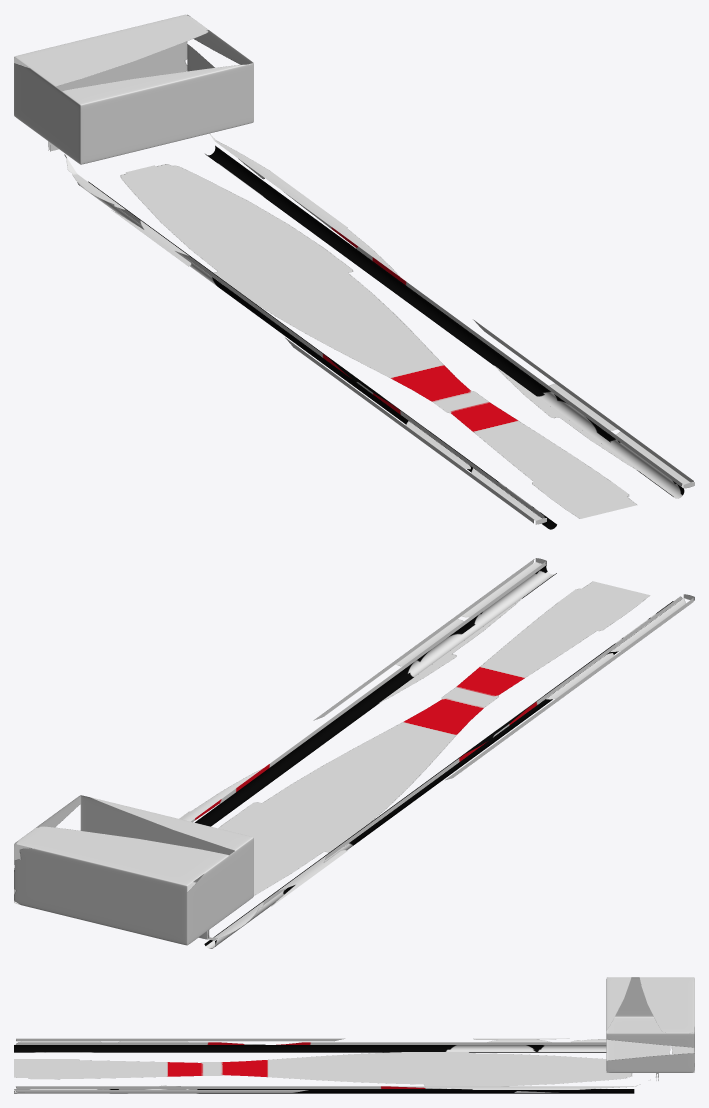
3 renders of one model, top to bottom at view 1: azimuth 30°, elevation 25°; view 2: azimuth 150°, elevation 25°; view 3: azimuth 270°, elevation 25°, orthographic. The views are drawn at different scales.
Visible parts, largest first — view 1: runway_Plane; view 2: runway_Plane; view 3: runway_Plane.
Part boxes in pixels (x1,y1,x2,y2): runway_Plane: (14,14,694,529); runway_Plane: (14,558,694,948); runway_Plane: (14,977,694,1093).
Bounding box in the file's own units: 30 × 16.87 × 154.
